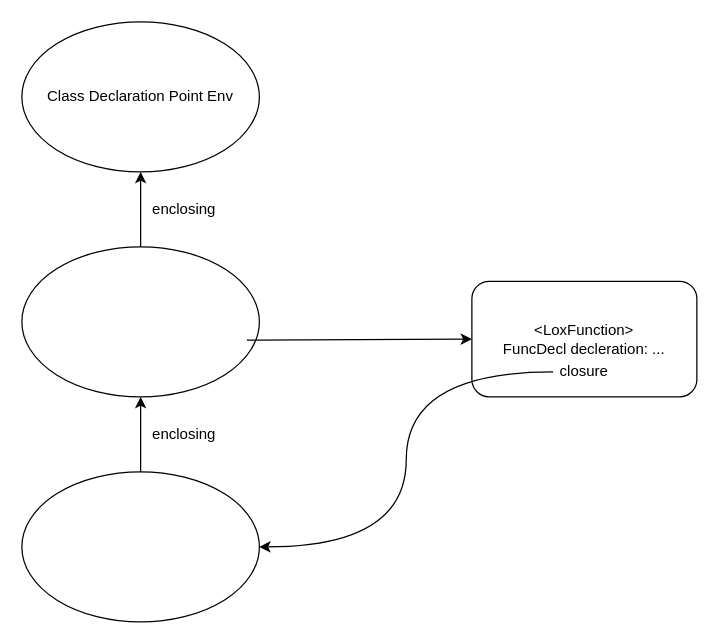
The diagram is 719 pixels wide and 644 high, and some of its shapes have lost their labels. Here are the shapes that lost their labels. From the top down, the centre of each, then its label:
At point 140,321: "Class Env method-1: <LoxFunction> method-2: <LoxFunction>".
At point 140,546: "Instance Env this: <Instance(this)>".
